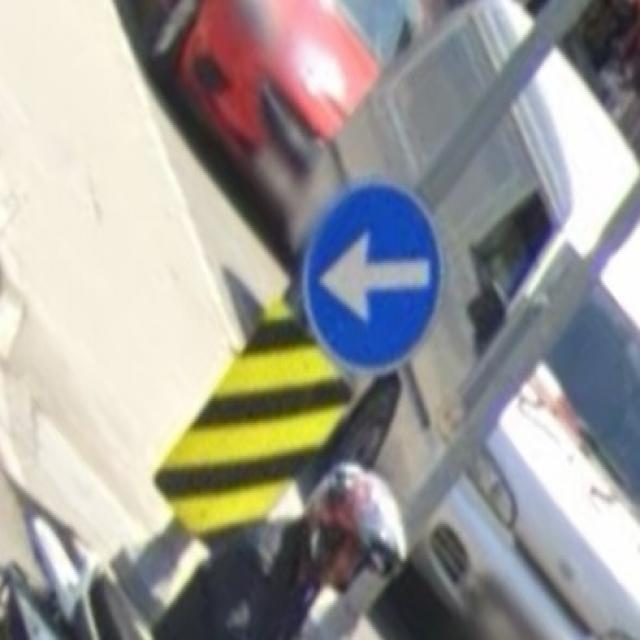Turn Left: (302, 172, 449, 373)
